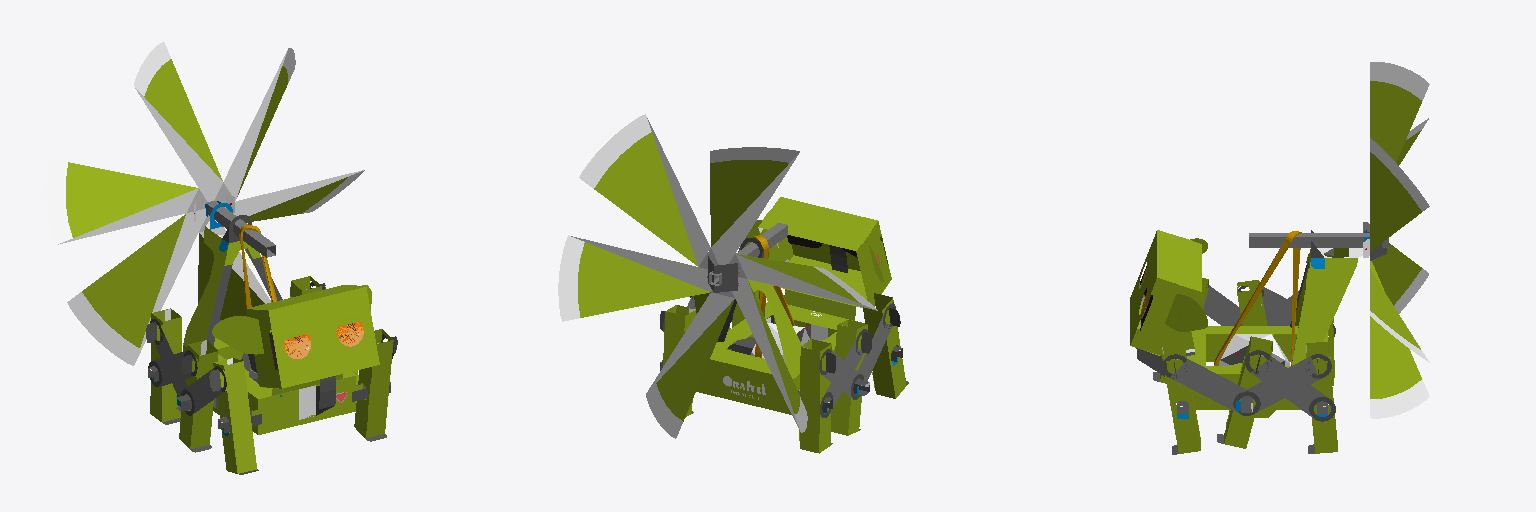
The model's file is Craftel_beta2.obj.
3 renders of one model, left to right at view 1: azimuth 30°, elevation 25°; view 2: azimuth 150°, elevation 25°; view 3: azimuth 270°, elevation 25°, orthographic.
Parts seen in each view (by area): view 1: Mesh127 Group123 ________4_5 Group110 Model, Mesh129 Group125 ________4_6 Group110 Model, Mesh84 Group75 Group58 Model, Mesh119 Group115 ________4_1 Group110 Model, Mesh66 Group56 Model, Mesh192 Group183 ________22_3 Model, Mesh94 Group87 Group86 Group84 Model, Mesh189 Group180 ________23_1 Model, Mesh125 Group121 ________4_4 Group110 Model, Mesh123 Group119 ________4_3 Group110 Model, Mesh118 Group114 ________4_1 Group110 Model, Mesh120 Group116 ________4_2 Group110 Model (+20 smaller); view 2: Mesh121 Group117 ________4_2 Group110 Model, Mesh123 Group119 ________4_3 Group110 Model, Mesh119 Group115 ________4_1 Group110 Model, Mesh125 Group121 ________4_4 Group110 Model, Mesh85 Group76 Group58 Model, Mesh63 Group53 Model, Mesh65 Group55 Model, Mesh160 Group153 ________22_2 Model, Mesh129 Group125 ________4_6 Group110 Model, Mesh94 Group87 Group86 Group84 Model, Mesh124 Group120 ________4_4 Group110 Model, Mesh128 Group124 ________4_6 Group110 Model (+19 smaller); view 3: Mesh125 Group121 ________4_4 Group110 Model, Mesh119 Group115 ________4_1 Group110 Model, Mesh121 Group117 ________4_2 Group110 Model, Mesh100 Group94 Group92 Group84 Model, Mesh85 Group76 Group58 Model, Mesh163 ________17_4 Model, Mesh127 Group123 ________4_5 Group110 Model, Mesh89 Group82 Group81 Group58 Model, Mesh180 ________17_5 Model, Mesh182 Group173 ________23_1 Model, Mesh123 Group119 ________4_3 Group110 Model, Mesh65 Group55 Model (+12 smaller).
Boxes of the visible parts, x1=… form: Mesh127 Group123 ________4_5 Group110 Model: x1=67, y1=214, x2=185, y2=365; Mesh129 Group125 ________4_6 Group110 Model: x1=46, y1=159, x2=197, y2=244; Mesh84 Group75 Group58 Model: x1=268, y1=287, x2=379, y2=388; Mesh119 Group115 ________4_1 Group110 Model: x1=134, y1=42, x2=222, y2=180; Mesh66 Group56 Model: x1=258, y1=376, x2=355, y2=434; Mesh192 Group183 ________22_3 Model: x1=224, y1=361, x2=256, y2=473; Mesh94 Group87 Group86 Group84 Model: x1=183, y1=226, x2=227, y2=346; Mesh189 Group180 ________23_1 Model: x1=365, y1=340, x2=393, y2=438; Mesh125 Group121 ________4_4 Group110 Model: x1=198, y1=233, x2=264, y2=321; Mesh123 Group119 ________4_3 Group110 Model: x1=223, y1=170, x2=364, y2=226; Mesh118 Group114 ________4_1 Group110 Model: x1=135, y1=88, x2=222, y2=187; Mesh120 Group116 ________4_2 Group110 Model: x1=224, y1=50, x2=287, y2=200; Mesh121 Group117 ________4_2 Group110 Model: x1=579, y1=114, x2=697, y2=265; Mesh123 Group119 ________4_3 Group110 Model: x1=558, y1=235, x2=709, y2=321; Mesh119 Group115 ________4_1 Group110 Model: x1=710, y1=147, x2=799, y2=246; Mesh125 Group121 ________4_4 Group110 Model: x1=646, y1=299, x2=734, y2=438; Mesh85 Group76 Group58 Model: x1=759, y1=197, x2=877, y2=250; Mesh63 Group53 Model: x1=696, y1=359, x2=791, y2=414; Mesh65 Group55 Model: x1=710, y1=302, x2=861, y2=378; Mesh160 Group153 ________22_2 Model: x1=800, y1=347, x2=819, y2=452; Mesh129 Group125 ________4_6 Group110 Model: x1=737, y1=254, x2=877, y2=310; Mesh94 Group87 Group86 Group84 Model: x1=748, y1=279, x2=801, y2=378; Mesh124 Group120 ________4_4 Group110 Model: x1=646, y1=293, x2=734, y2=393; Mesh128 Group124 ________4_6 Group110 Model: x1=736, y1=254, x2=876, y2=310; Mesh125 Group121 ________4_4 Group110 Model: x1=1370, y1=261, x2=1429, y2=418; Mesh119 Group115 ________4_1 Group110 Model: x1=1370, y1=62, x2=1429, y2=161; Mesh121 Group117 ________4_2 Group110 Model: x1=1370, y1=138, x2=1429, y2=251; Mesh100 Group94 Group92 Group84 Model: x1=1292, y1=258, x2=1357, y2=365; Mesh85 Group76 Group58 Model: x1=1157, y1=230, x2=1201, y2=291; Mesh163 ________17_4 Model: x1=1245, y1=350, x2=1335, y2=421; Mesh127 Group123 ________4_5 Group110 Model: x1=1372, y1=243, x2=1428, y2=313; Mesh89 Group82 Group81 Group58 Model: x1=1130, y1=278, x2=1200, y2=355; Mesh180 ________17_5 Model: x1=1162, y1=354, x2=1259, y2=415; Mesh182 Group173 ________23_1 Model: x1=1162, y1=351, x2=1200, y2=453; Mesh123 Group119 ________4_3 Group110 Model: x1=1370, y1=269, x2=1429, y2=362; Mesh65 Group55 Model: x1=1187, y1=326, x2=1327, y2=373.
Bounding box in the file's own units: 0.1895 × 0.1942 × 0.1587.